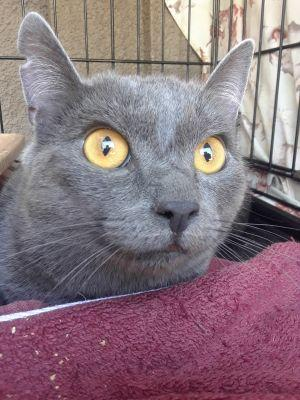rblue: (1, 1, 270, 307)
